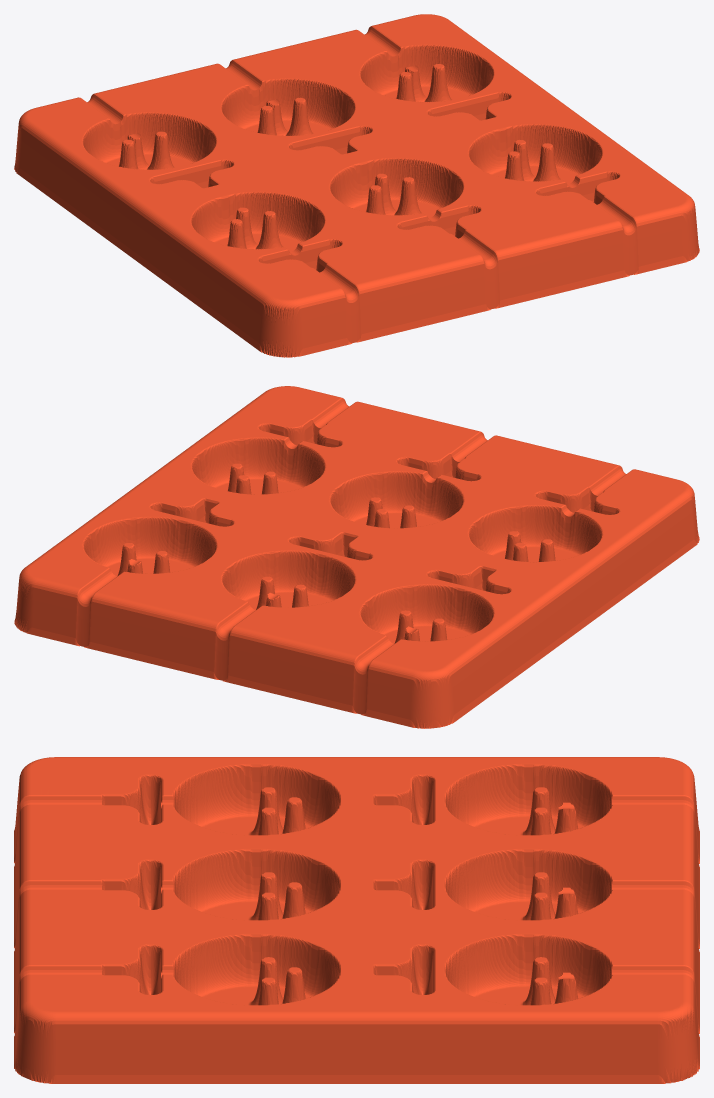
Rendered from mold.glb.
3 renders of one model, top to bottom at view 1: azimuth 30°, elevation 25°; view 2: azimuth 150°, elevation 25°; view 3: azimuth 270°, elevation 25°, orthographic. The views are drawn at different scales.
Parts seen in each view (by area): view 1: geometry_0; view 2: geometry_0; view 3: geometry_0.
Boxes of the visible parts, x1,y1,x2,y2 form: geometry_0: (14,14,699,357); geometry_0: (14,386,699,728); geometry_0: (14,757,699,1083).
Size of the model in its own units: 0.1364 by 0.0155 by 0.1477.
